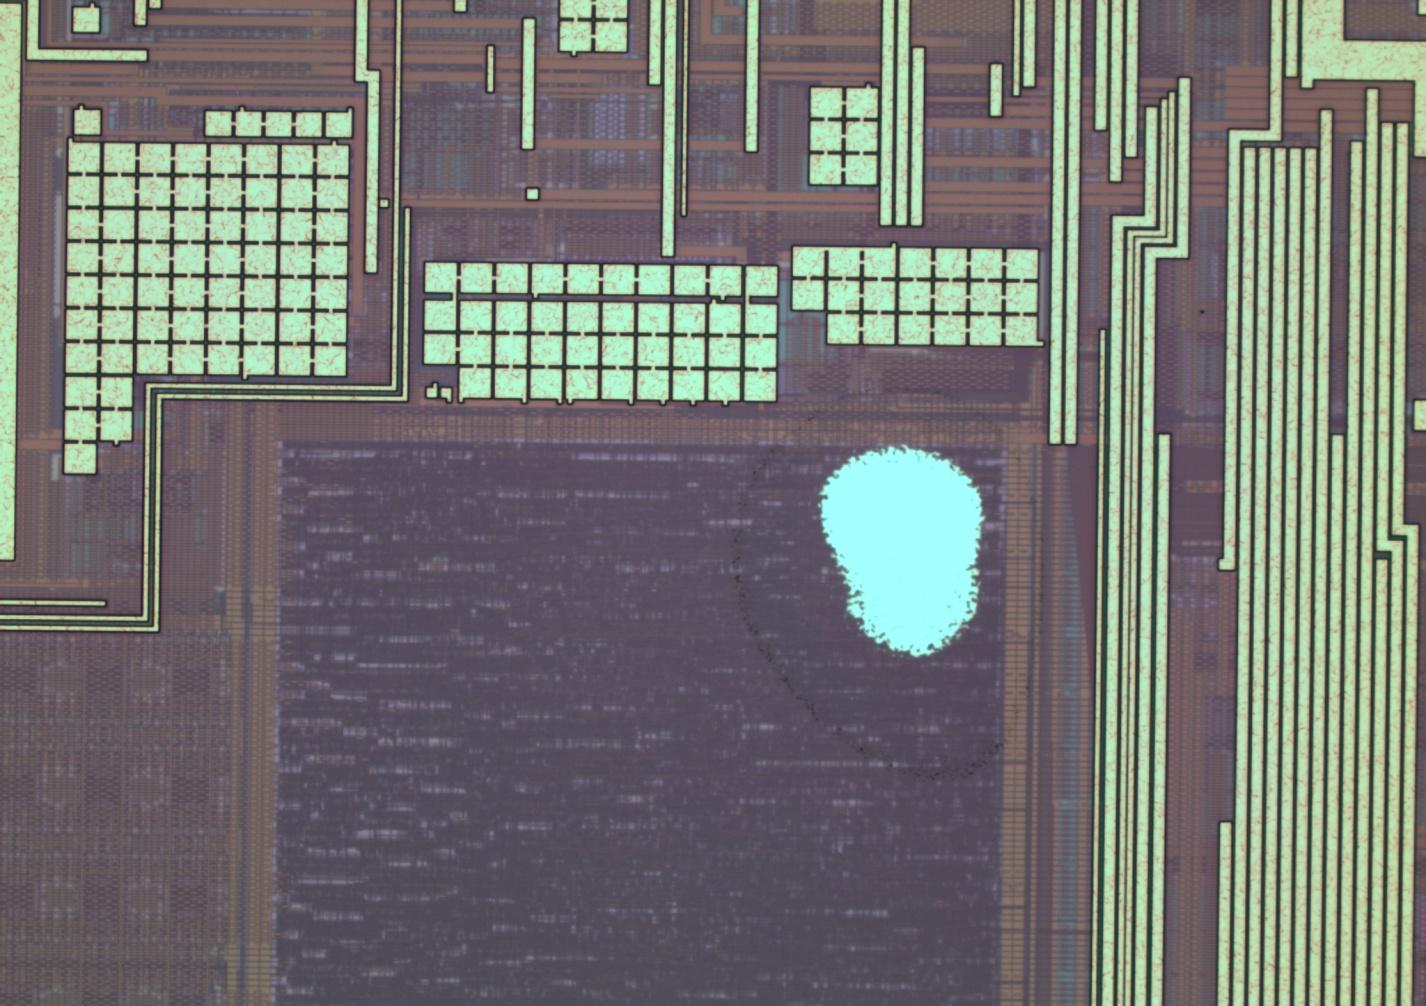BLOCK ETCH: (703, 385, 1098, 780)
